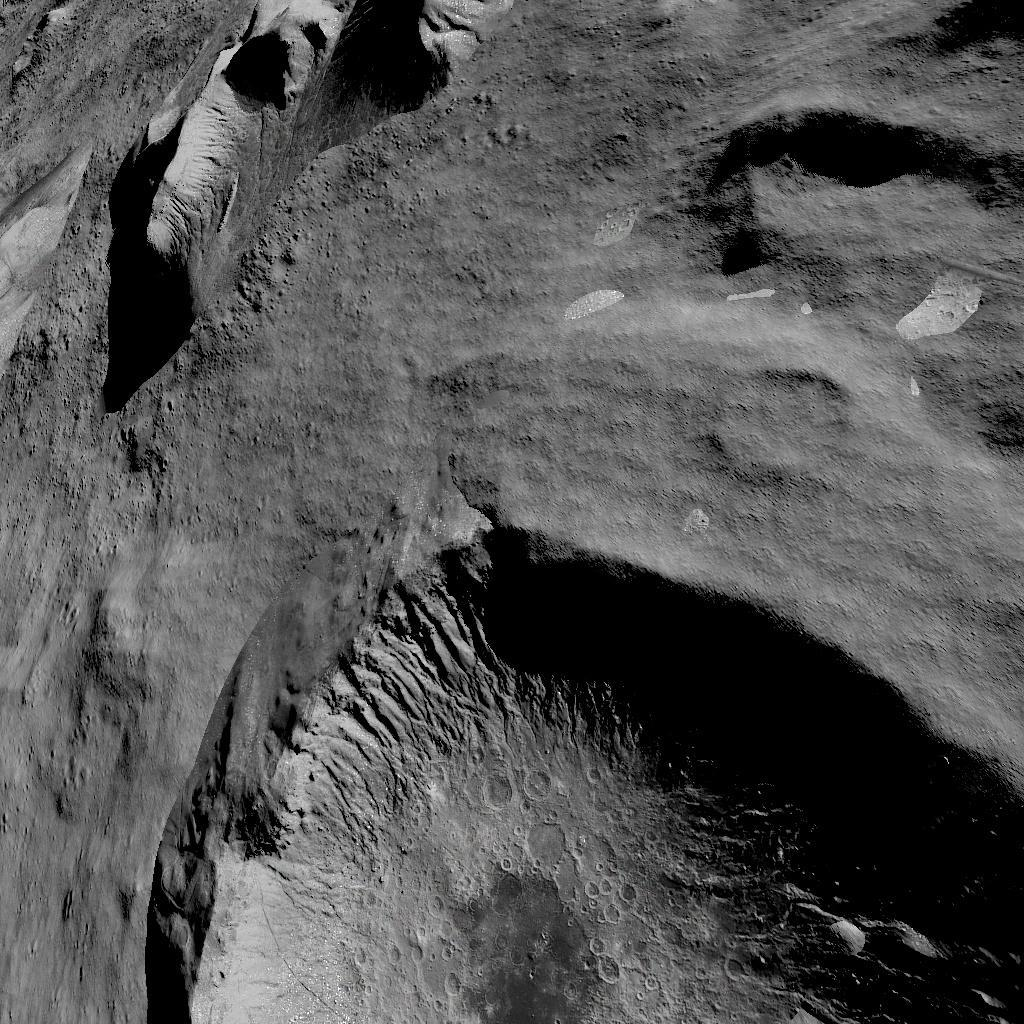Boulders: (66, 2, 518, 393)
Crater: (138, 512, 1024, 1024), (688, 0, 1024, 311), (714, 362, 852, 480)
